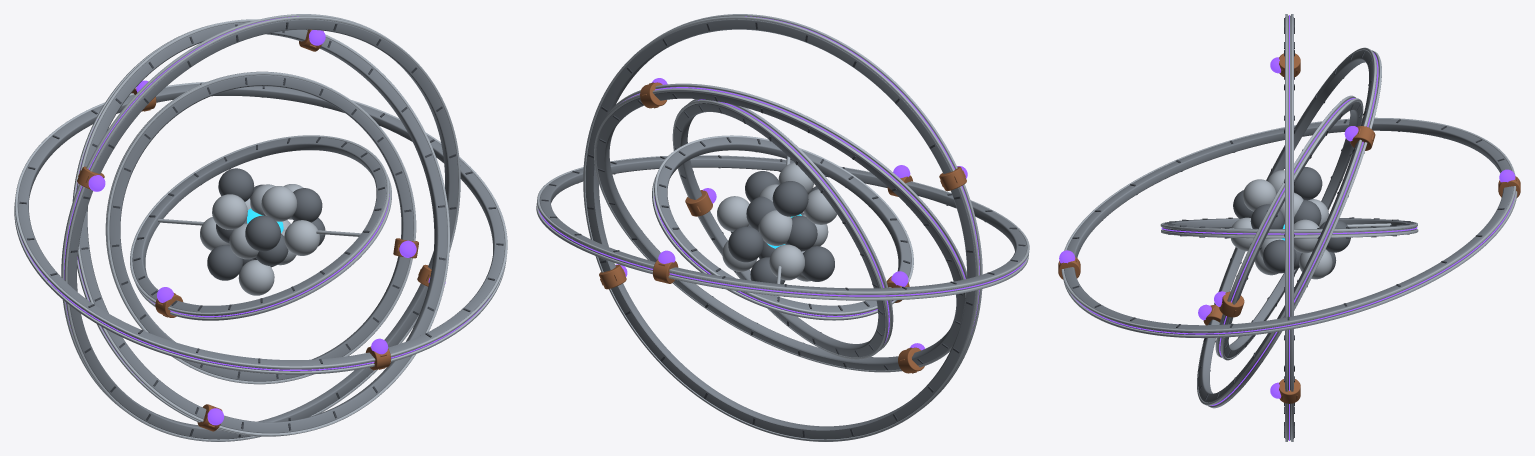
Rendered from atom_05_heavy.glb.
3 renders of one model, left to right at view 1: azimuth 30°, elevation 25°; view 2: azimuth 150°, elevation 25°; view 3: azimuth 270°, elevation 25°, orthographic. The views are drawn at different scales.
Parts seen in each view (by area): view 1: orbit_2_ring, orbit_3_ring, orbit_1_ring, orbit_4_ring, orbit_5_ring, nucleus_protons, orbit_1_lips, orbit_2_lips, nucleus_neutrons, orbit_3_lips, orbit_4_lips, orbit_5_lips (+2 smaller); view 2: orbit_2_ring, orbit_3_ring, orbit_1_ring, orbit_5_ring, nucleus_neutrons, orbit_2_lips, orbit_4_ring, nucleus_protons, orbit_1_lips, orbit_3_lips, orbit_4_lips, orbit_5_lips (+4 smaller); view 3: orbit_1_ring, orbit_3_ring, orbit_1_lips, orbit_4_ring, nucleus_neutrons, nucleus_protons, orbit_3_lips, orbit_2_lips, orbit_4_lips, orbit_5_ring, orbit_5_lips, orbit_2_ring (+2 smaller).
Part boxes in pixels (x1,y1,x2,y2): orbit_2_ring: [67, 19, 458, 439]; orbit_3_ring: [79, 22, 447, 433]; orbit_1_ring: [17, 83, 504, 371]; orbit_4_ring: [109, 75, 413, 381]; orbit_5_ring: [132, 137, 386, 317]; nucleus_protons: [200, 184, 319, 295]; orbit_1_lips: [14, 81, 507, 374]; orbit_2_lips: [61, 14, 460, 441]; nucleus_neutrons: [207, 168, 325, 280]; orbit_3_lips: [72, 19, 449, 436]; orbit_4_lips: [105, 71, 416, 384]; orbit_5_lips: [130, 135, 391, 320]; orbit_2_ring: [585, 19, 976, 439]; orbit_3_ring: [596, 86, 965, 370]; orbit_1_ring: [539, 156, 1026, 297]; orbit_5_ring: [657, 137, 911, 317]; nucleus_neutrons: [728, 171, 834, 284]; orbit_2_lips: [583, 14, 982, 441]; orbit_4_ring: [674, 102, 890, 357]; nucleus_protons: [717, 162, 837, 281]; orbit_1_lips: [536, 155, 1029, 300]; orbit_3_lips: [594, 83, 966, 372]; orbit_4_lips: [672, 99, 893, 359]; orbit_5_lips: [652, 135, 913, 320]; orbit_1_ring: [1064, 119, 1513, 334]; orbit_3_ring: [1198, 50, 1378, 404]; orbit_1_lips: [1061, 117, 1517, 338]; orbit_4_ring: [1218, 98, 1362, 358]; nucleus_neutrons: [1233, 167, 1350, 275]; nucleus_protons: [1230, 170, 1332, 279]; orbit_3_lips: [1197, 47, 1381, 408]; orbit_2_lips: [1285, 14, 1293, 441]; orbit_4_lips: [1215, 95, 1363, 360]; orbit_5_ring: [1163, 218, 1416, 238]; orbit_5_lips: [1160, 219, 1418, 238]; orbit_2_ring: [1285, 15, 1293, 440].
Bounding box in the file's own units: 2.07 × 1.91 × 2.06.
